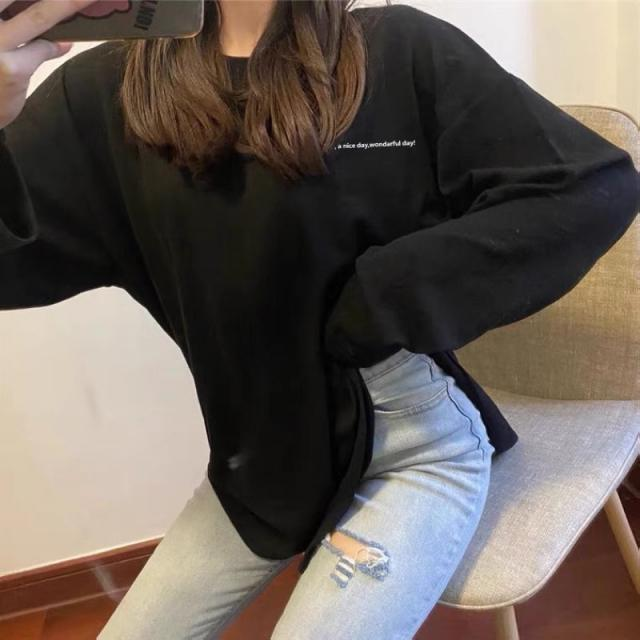Shirt: (6, 15, 638, 559)
